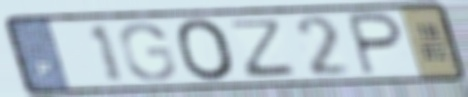1: (86, 21, 125, 86)
2: (292, 14, 356, 79)
G: (116, 21, 179, 83)
O: (172, 16, 241, 83)
P: (344, 10, 406, 78)
Z: (229, 17, 298, 79)
